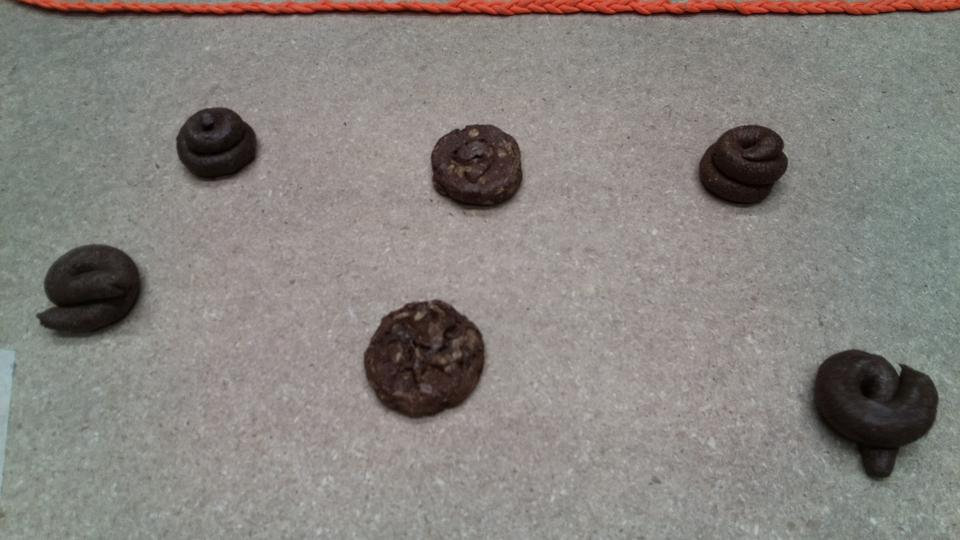poop: (818, 350, 938, 480), (365, 302, 483, 414), (39, 246, 141, 339), (433, 124, 524, 207), (701, 125, 787, 211), (177, 108, 256, 179)
rope: (31, 2, 959, 14)
